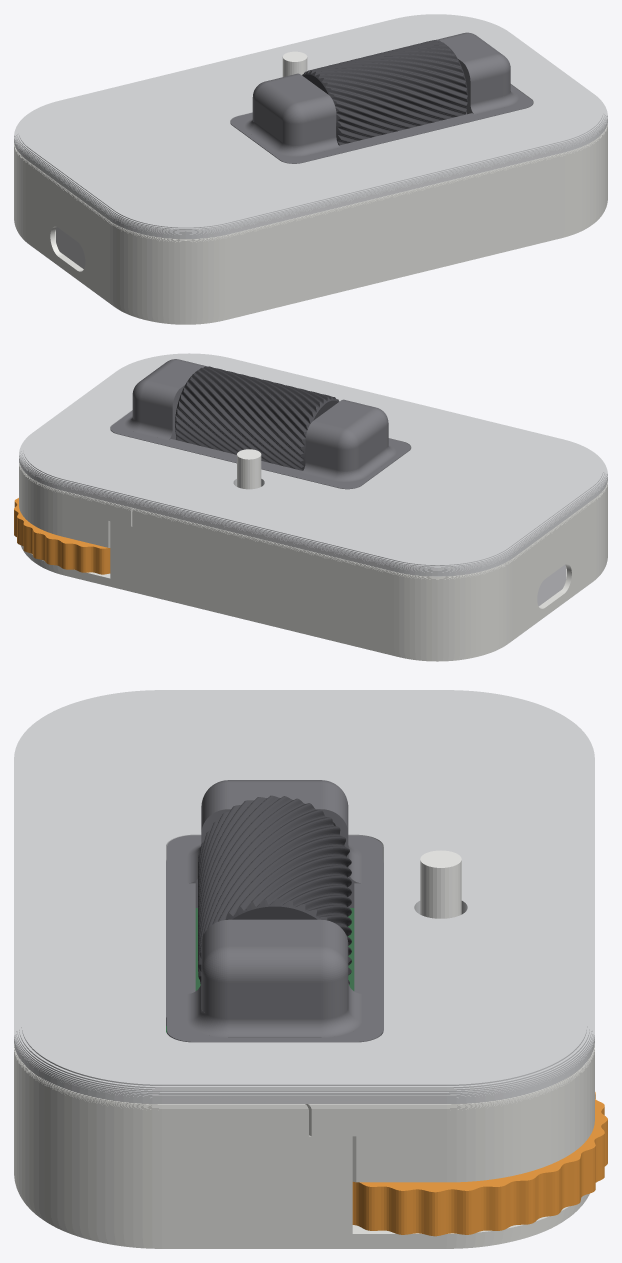
Rendered from enctest.glb.
The picture shows the model from 3 angles, top to bottom: view 1: azimuth 30°, elevation 25°; view 2: azimuth 150°, elevation 25°; view 3: azimuth 270°, elevation 25°; orthographic projection. The views are drawn at different scales.
Visible parts, largest first — view 1: plate:plate, tray:tray, plate:bezel, body:drum, body:usb, body:cap; view 2: plate:plate, tray:tray, plate:bezel, body:drum, body:wheel, body:cap, body:usb; view 3: plate:plate, tray:tray, plate:bezel, body:drum, body:wheel, body:cap.
Part boxes in pixels (x1,y1,x2,y2): plate:plate: (14, 14, 607, 238); tray:tray: (14, 123, 607, 324); plate:bezel: (230, 32, 532, 163); body:drum: (302, 40, 467, 145); body:usb: (56, 227, 85, 268); body:cap: (282, 51, 307, 76); plate:plate: (19, 353, 607, 576); tray:tray: (19, 462, 607, 661); plate:bezel: (110, 359, 410, 489); body:drum: (175, 366, 339, 470); body:wheel: (14, 498, 110, 574); body:cap: (237, 449, 261, 489); body:usb: (537, 565, 566, 605); plate:plate: (14, 690, 594, 1103); tray:tray: (14, 1043, 594, 1248); plate:bezel: (166, 780, 383, 1042); body:drum: (198, 795, 351, 984); body:wheel: (352, 1092, 607, 1236); body:cap: (420, 850, 461, 918).
Bounding box in the file's own units: 0.0813 × 0.0241 × 0.0502.
